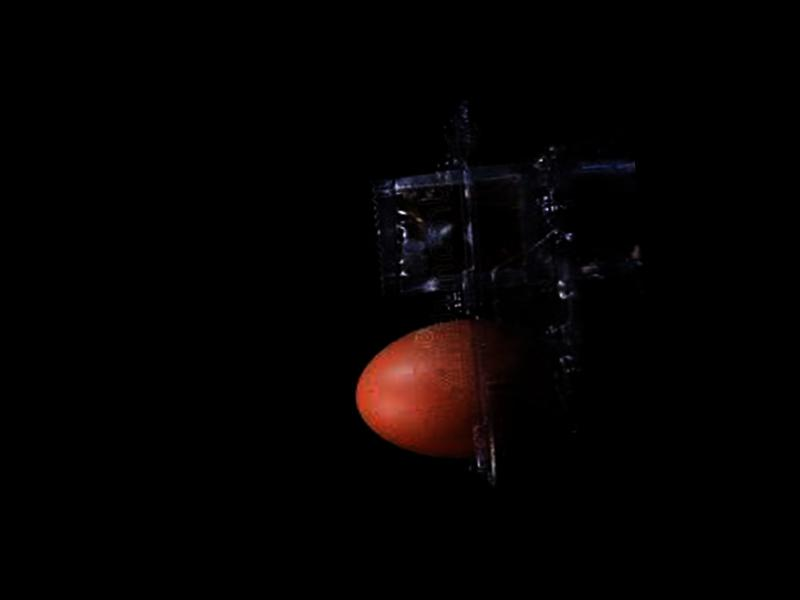Eggs: (350, 314, 566, 469)
